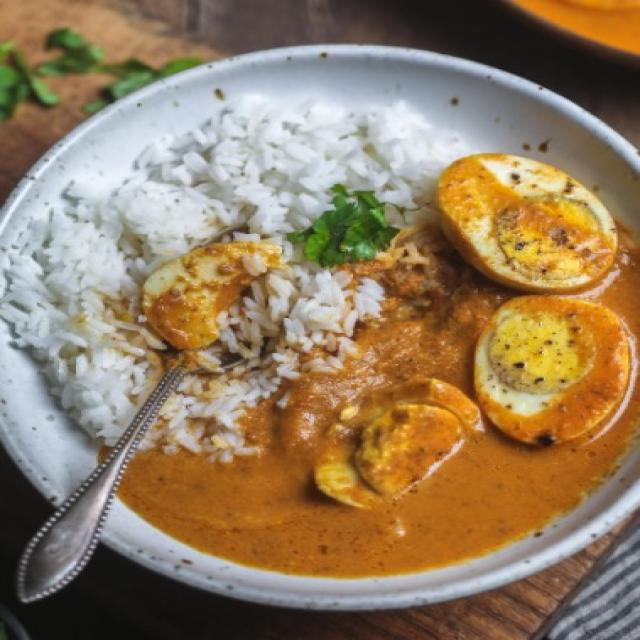EGG: (141, 154, 638, 576)
RICE: (0, 76, 474, 452)
